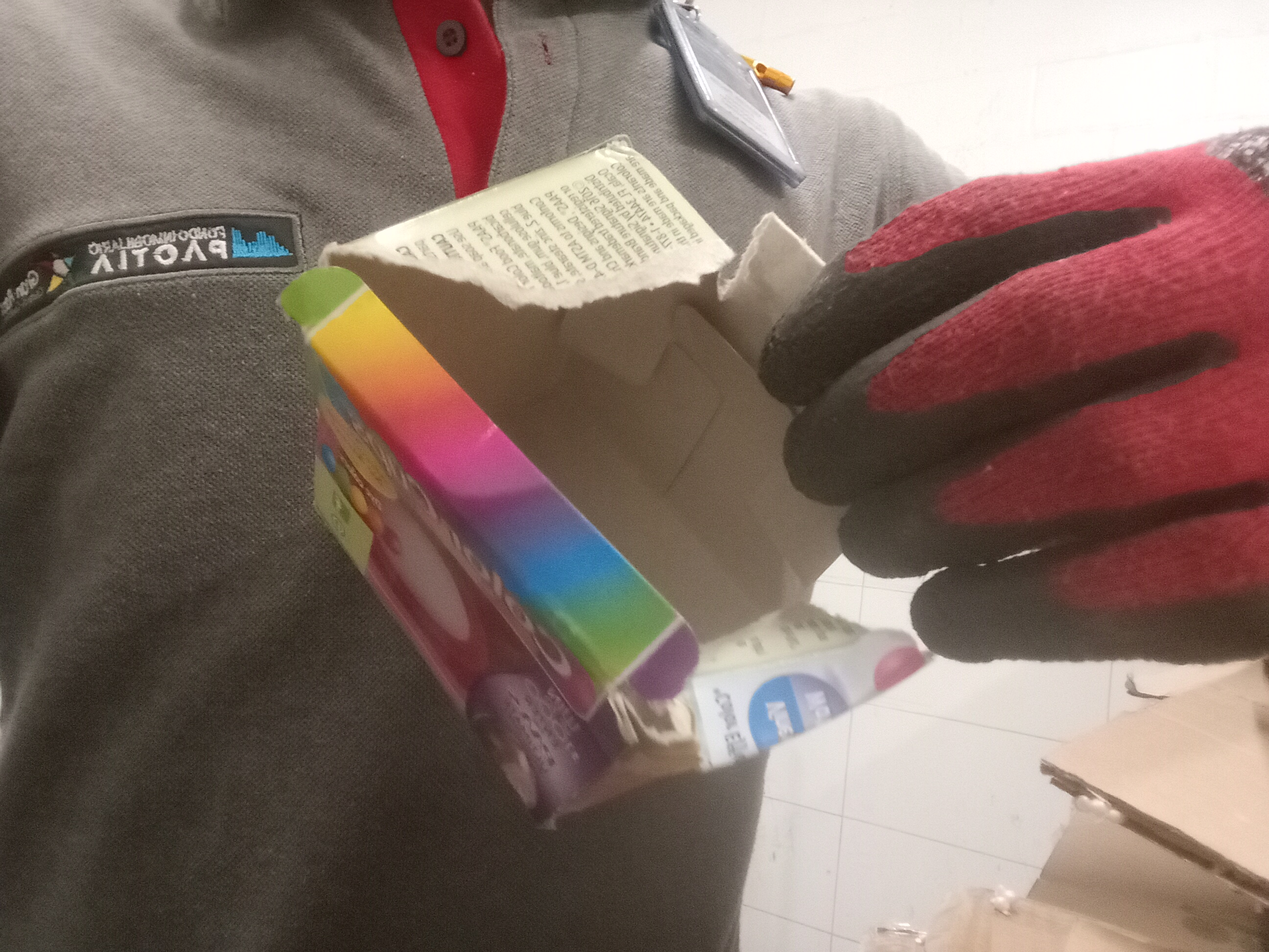Carton: (275, 122, 945, 833)
